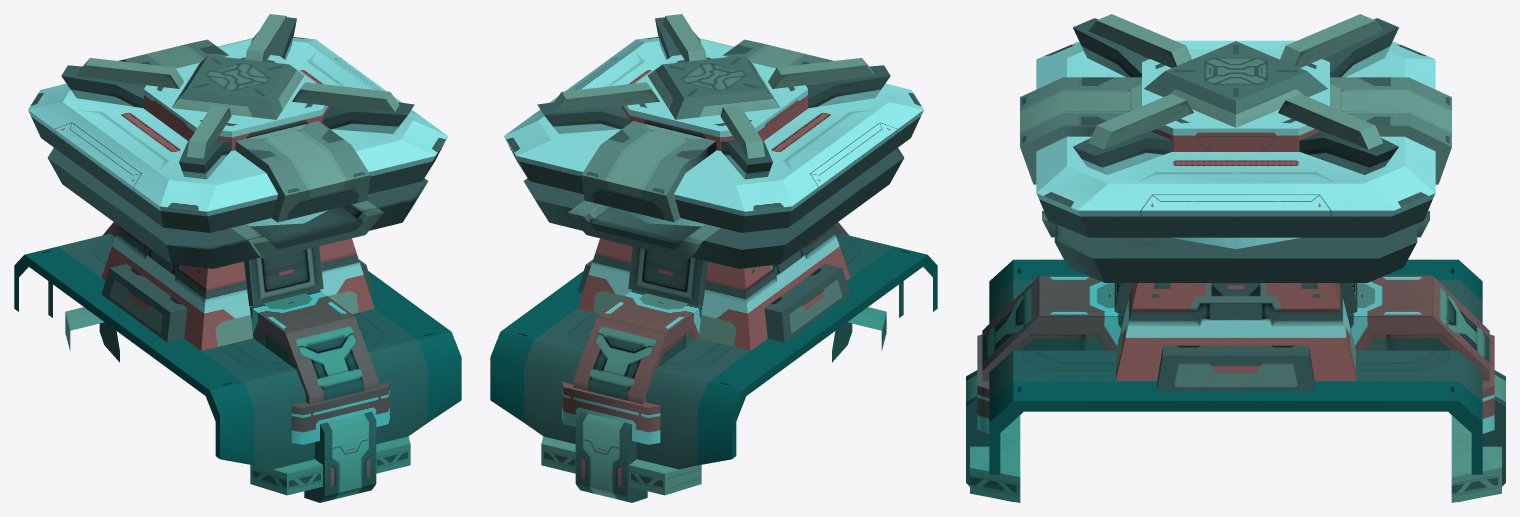
File: delivery-machine.glb
3 views of the same model, side by side, from view 1: azimuth 30°, elevation 25°; view 2: azimuth 150°, elevation 25°; view 3: azimuth 270°, elevation 25° (orthographic). The views are drawn at different scales.
Visible parts, largest first — view 1: delivery-machine-a, delivery-machine-c, delivery-machine-d, delivery-machine-b; view 2: delivery-machine-a, delivery-machine-b, delivery-machine-d, delivery-machine-c; view 3: delivery-machine-a, delivery-machine-b, delivery-machine-c, delivery-machine-d.
Part boxes in pixels (box(x1,y1,x2,y2)): delivery-machine-a: box(28, 14, 447, 350); delivery-machine-c: box(184, 290, 427, 502); delivery-machine-d: box(14, 246, 461, 465); delivery-machine-b: box(48, 222, 119, 362); delivery-machine-a: box(504, 14, 923, 350); delivery-machine-b: box(524, 290, 767, 502); delivery-machine-d: box(490, 246, 937, 465); delivery-machine-c: box(832, 222, 903, 362); delivery-machine-a: box(1020, 14, 1451, 390); delivery-machine-b: box(1315, 275, 1505, 502); delivery-machine-c: box(966, 275, 1156, 502); delivery-machine-d: box(989, 259, 1482, 474).
Bounding box in the file's own units: 2.94 × 3.39 × 3.98.
Materials: 2 (2 with a texture image).
